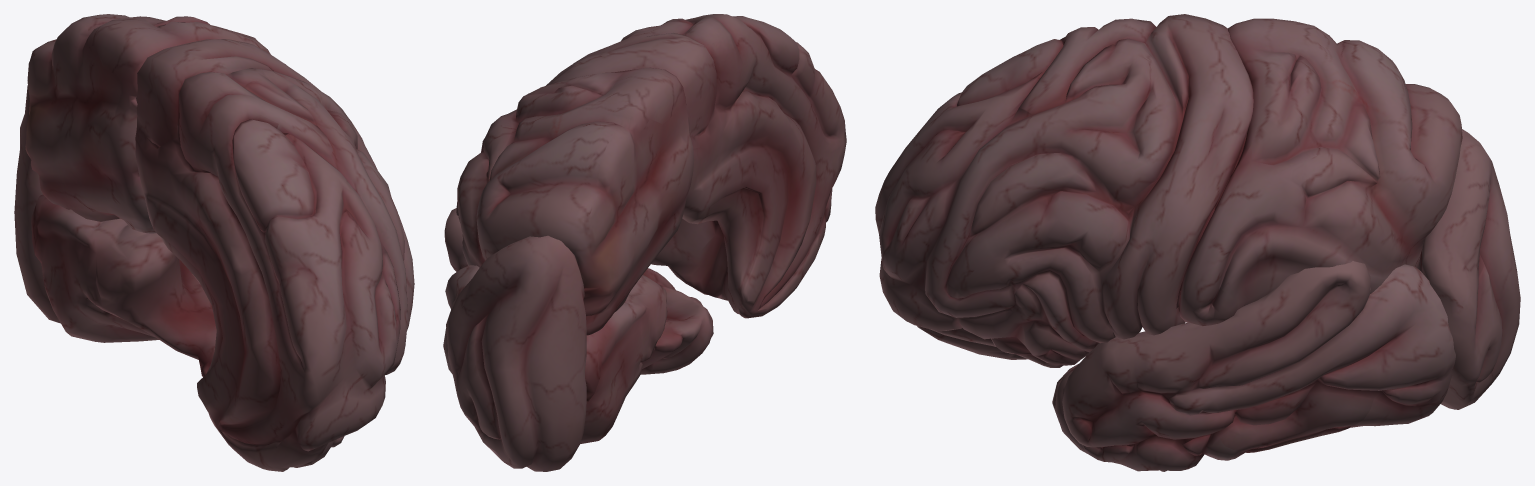
The model's file is Cerebrum.gltf.
3 renders of one model, left to right at view 1: azimuth 30°, elevation 25°; view 2: azimuth 150°, elevation 25°; view 3: azimuth 270°, elevation 25°, orthographic. The views are drawn at different scales.
Visible parts, largest first — view 1: Frontal_Lobe_Left, Parietal_Lobe_Left, Temporal_Lobe_Left, Occipital_Lob_Left; view 2: Frontal_Lobe_Left, Parietal_Lobe_Left, Occipital_Lob_Left, Temporal_Lobe_Left; view 3: Frontal_Lobe_Left, Temporal_Lobe_Left, Parietal_Lobe_Left, Occipital_Lob_Left.
Boxes of the visible parts, <box> form: Frontal_Lobe_Left: <box>135,39,414,471</box>; Parietal_Lobe_Left: <box>25,14,285,233</box>; Temporal_Lobe_Left: <box>31,194,344,467</box>; Occipital_Lob_Left: <box>14,85,60,323</box>; Frontal_Lobe_Left: <box>546,14,846,318</box>; Parietal_Lobe_Left: <box>456,67,694,335</box>; Occipital_Lob_Left: <box>446,235,586,471</box>; Temporal_Lobe_Left: <box>443,208,713,443</box>; Frontal_Lobe_Left: <box>875,14,1253,367</box>; Temporal_Lobe_Left: <box>1052,261,1455,471</box>; Parietal_Lobe_Left: <box>1176,18,1462,326</box>; Occipital_Lob_Left: <box>1417,129,1520,409</box>.
Bounding box in the file's own units: 6.83 × 11.29 × 16.52.
1 material, 1 textured.
